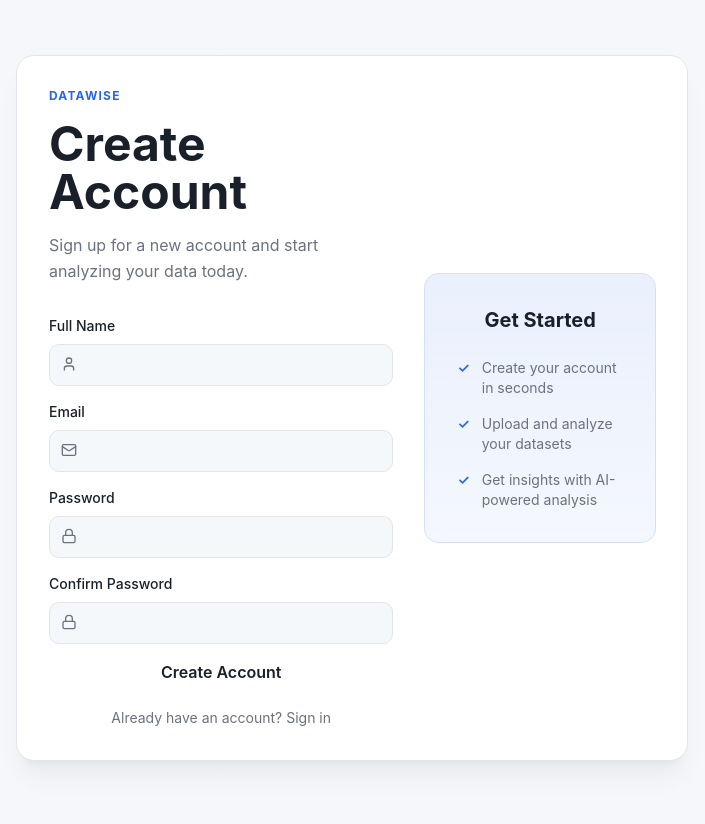
it: SignupPage › rejects mismatched passwords
Type "Alice" into the field labelled "Full Name" at [221, 365], box [49,344,393,386]
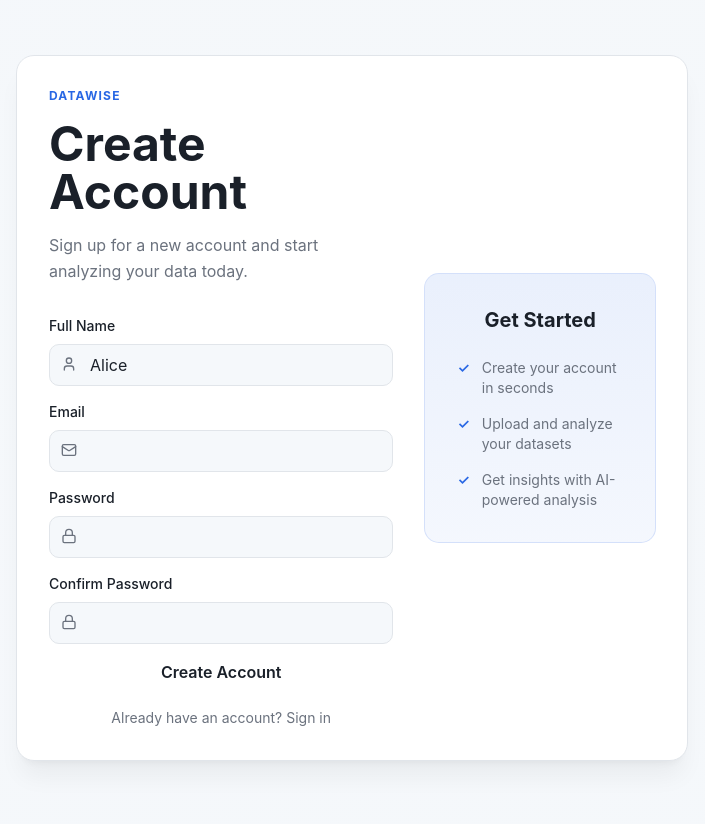
Type "a@b.com" into the field labelled "Email" at [221, 451], box [49,430,393,472]
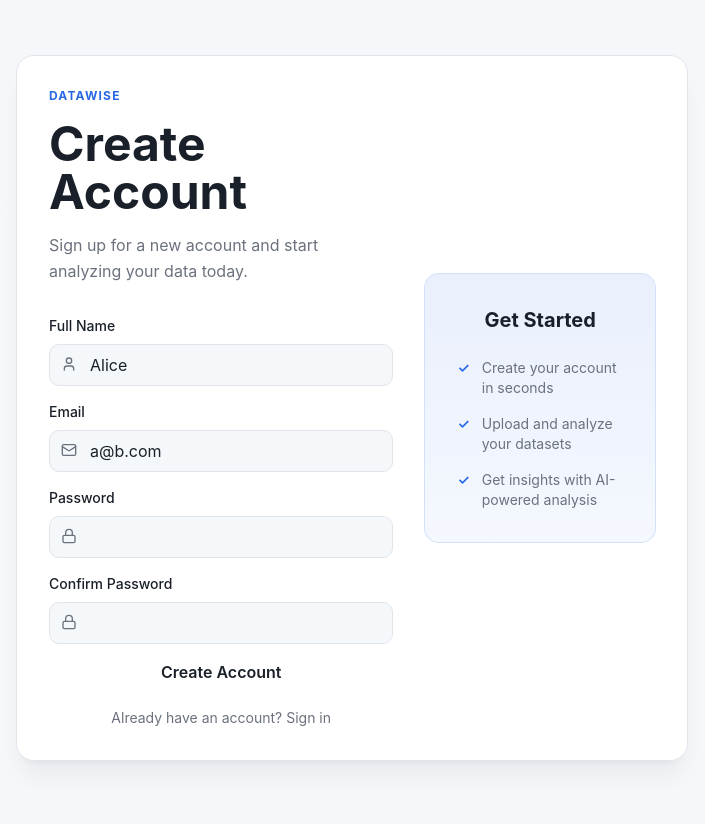
Type "password123" into the password field labelled "Password" at [221, 537], box [49,516,393,558]
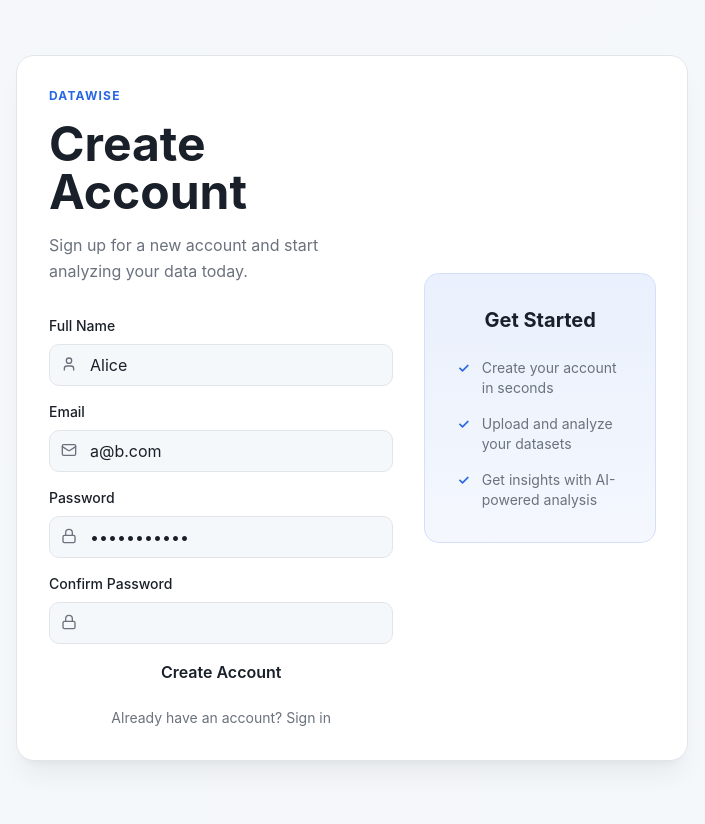
Type "different" into the password field labelled "Confirm Password" at [221, 623], box [49,602,393,644]
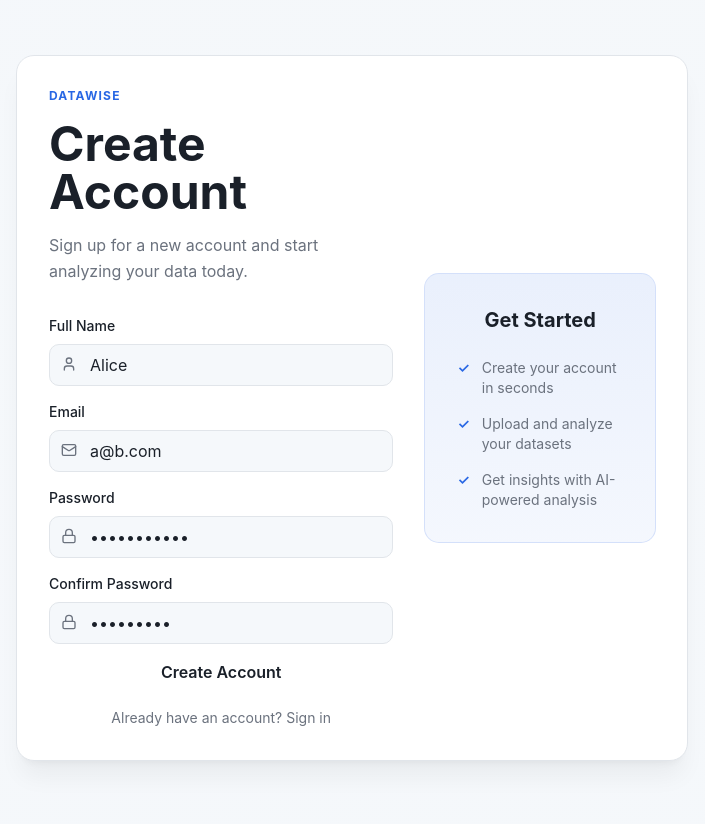
Submit the form "Full Name Email Password Confirm Password Create Account", box [49,308,393,684]
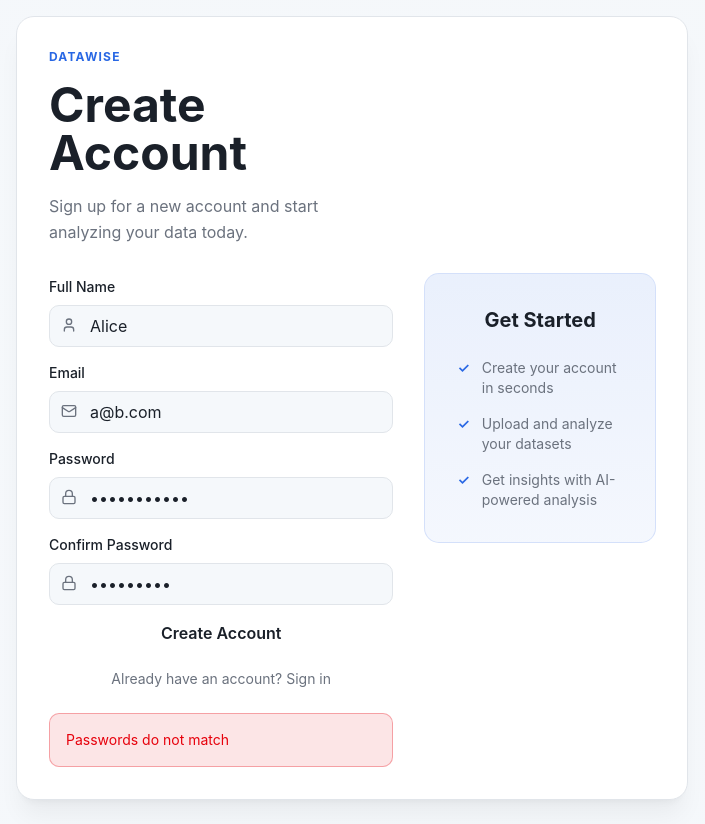
expect the text "Passwords do not match" is shown: met, box [49,713,393,767]
